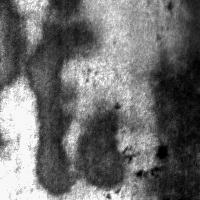patches: (27, 1, 87, 196), (150, 1, 200, 200), (82, 0, 200, 69), (78, 103, 127, 188), (1, 1, 27, 91), (147, 0, 200, 41)
